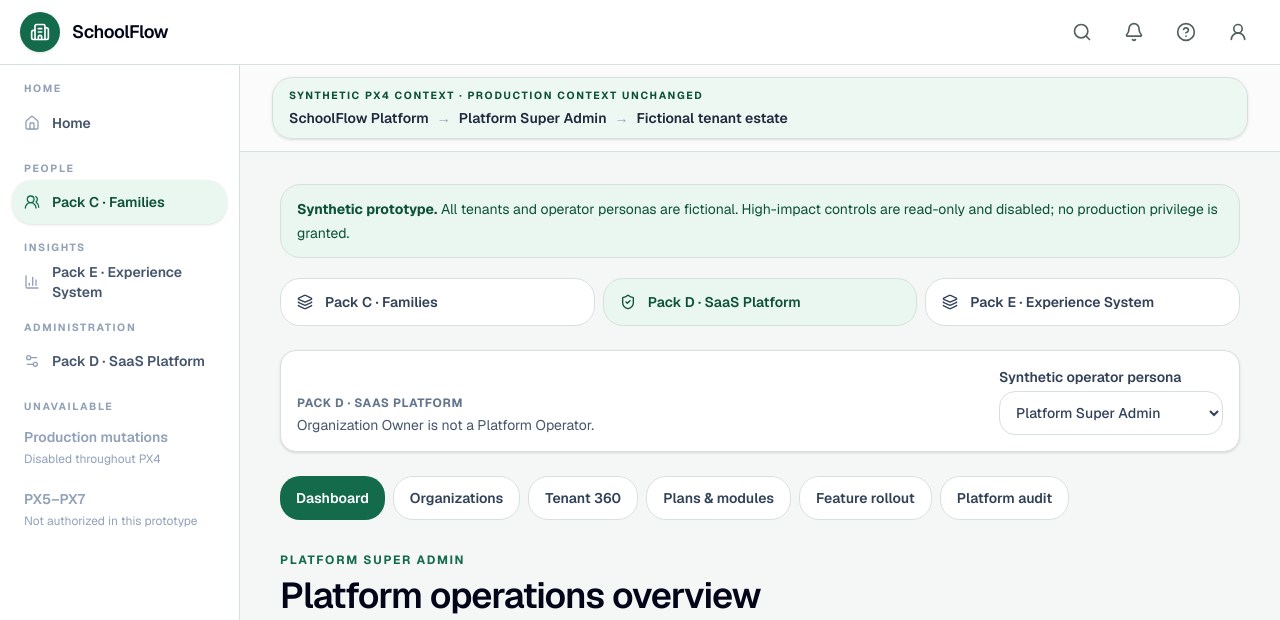
Test case: PX4 Prototype Packs C–E › keeps all high-impact platform mutations disabled
Click the button "Tenant 360": (583, 498) [528, 476, 638, 520]
(page scrolled)
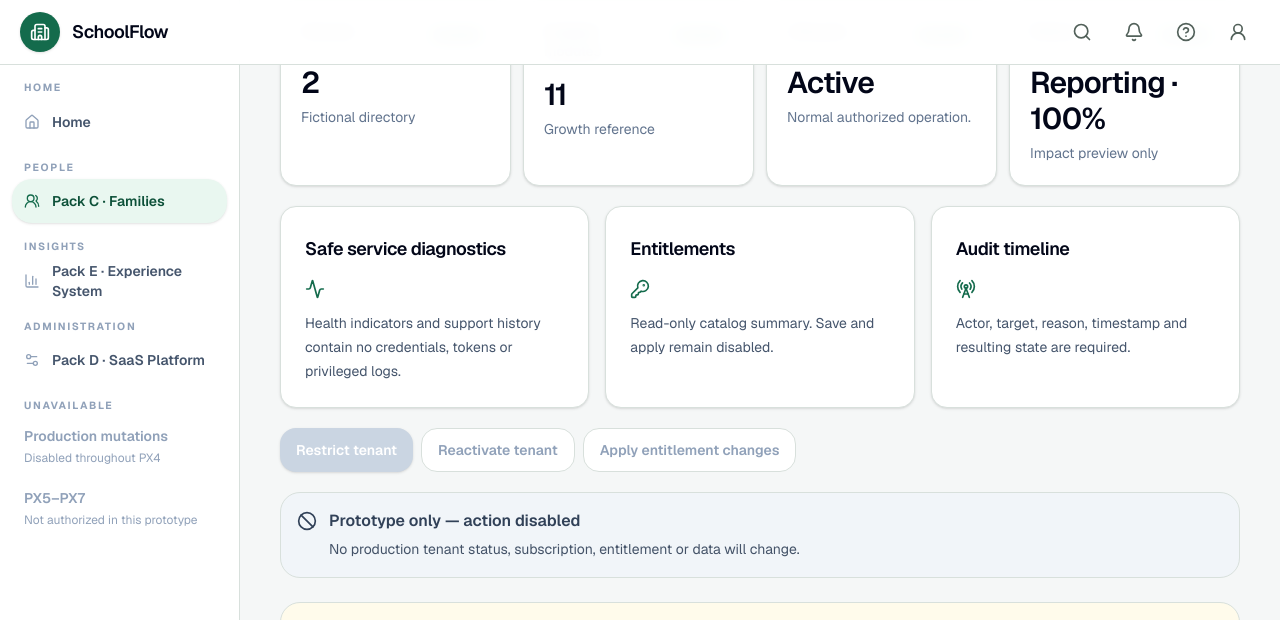
Expected: the button "Restrict tenant" is disabled, [280, 428, 413, 472]
Expected: the button "Reactivate tenant" is disabled, [421, 428, 575, 472]
Expected: the button "Apply entitlement changes" is disabled, [583, 428, 796, 472]
